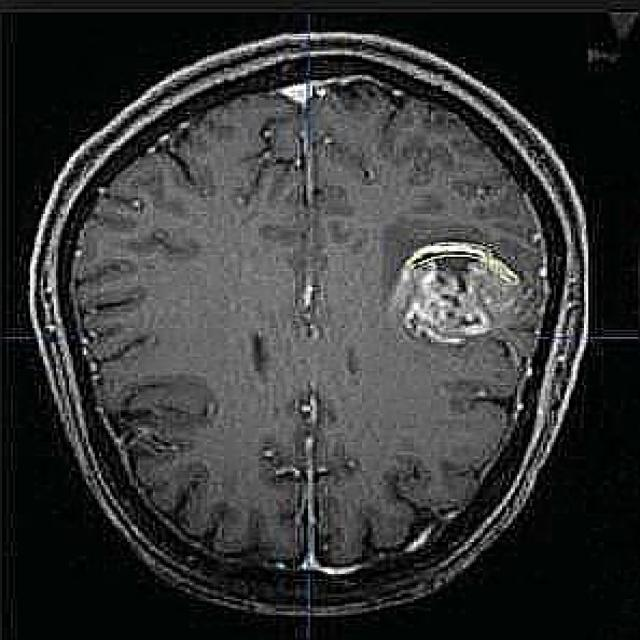Tumor-Cell: (411, 217, 542, 358)
